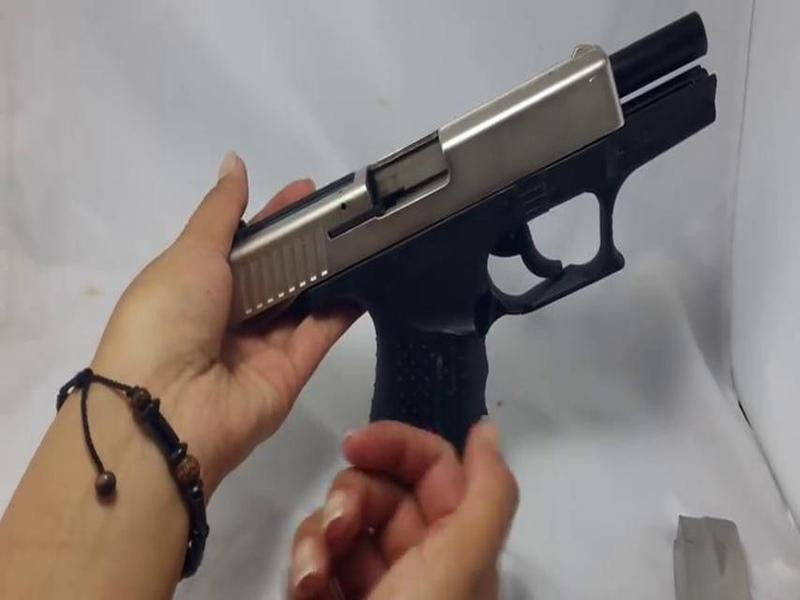Pistola: (251, 8, 732, 530)
